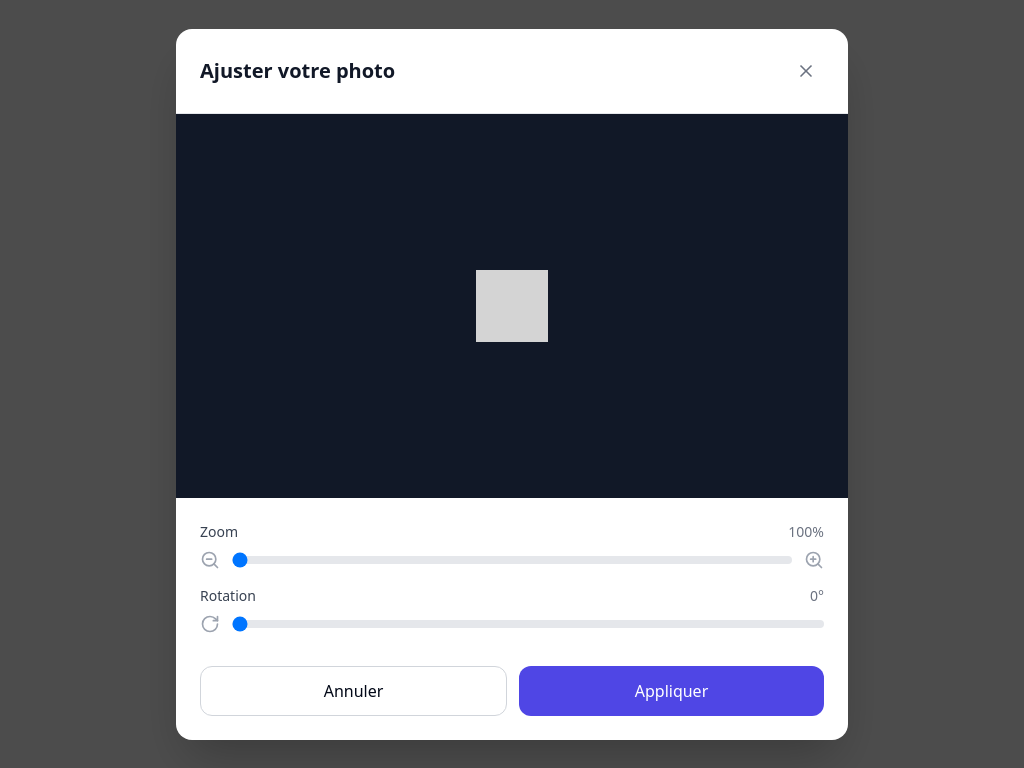
Test case: ImageCropModal › updates rotation value when slider changes
Set the slider below "Rotation" to "90" at (384, 624), box left=232, top=620, right=824, bottom=628
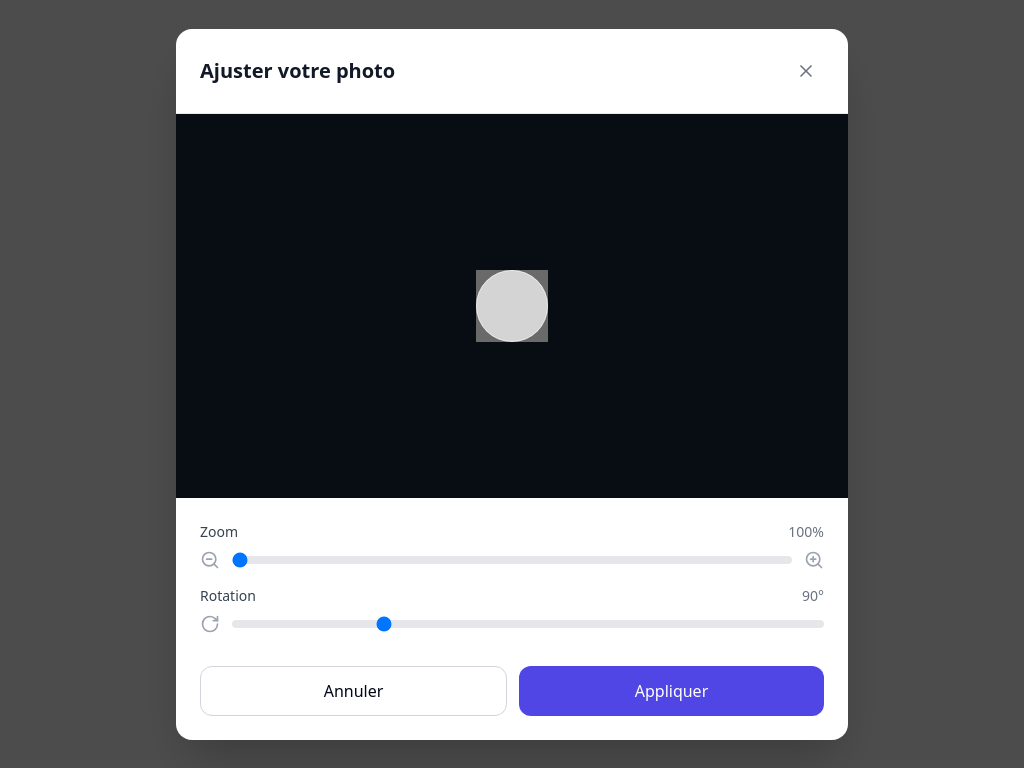
Check: the text "90°" is shown, box left=802, top=586, right=824, bottom=606
